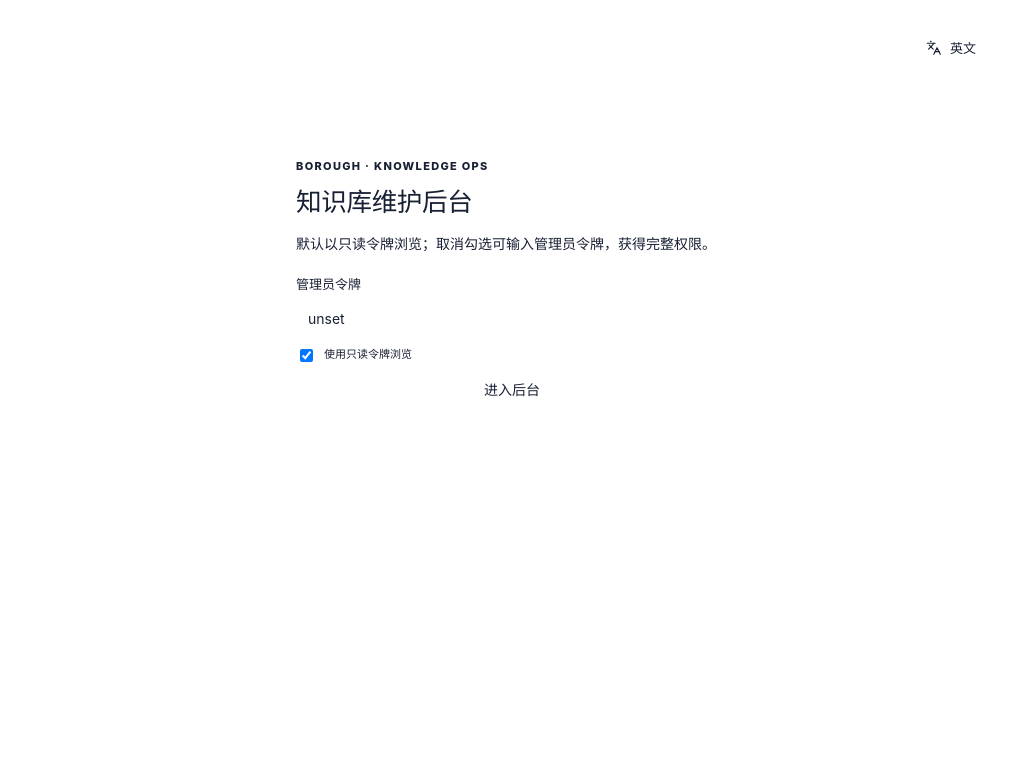
KnowledgeBaseView › 未授权时也能看到并使用统一语言切换器，不必先输入令牌才能切换语言（Finding 4）
Expected: the heading "知识库维护后台" is shown, [296,186,472,217]
Click the button with test id "language-switcher".
click(951, 48)  # box [914,30,988,66]
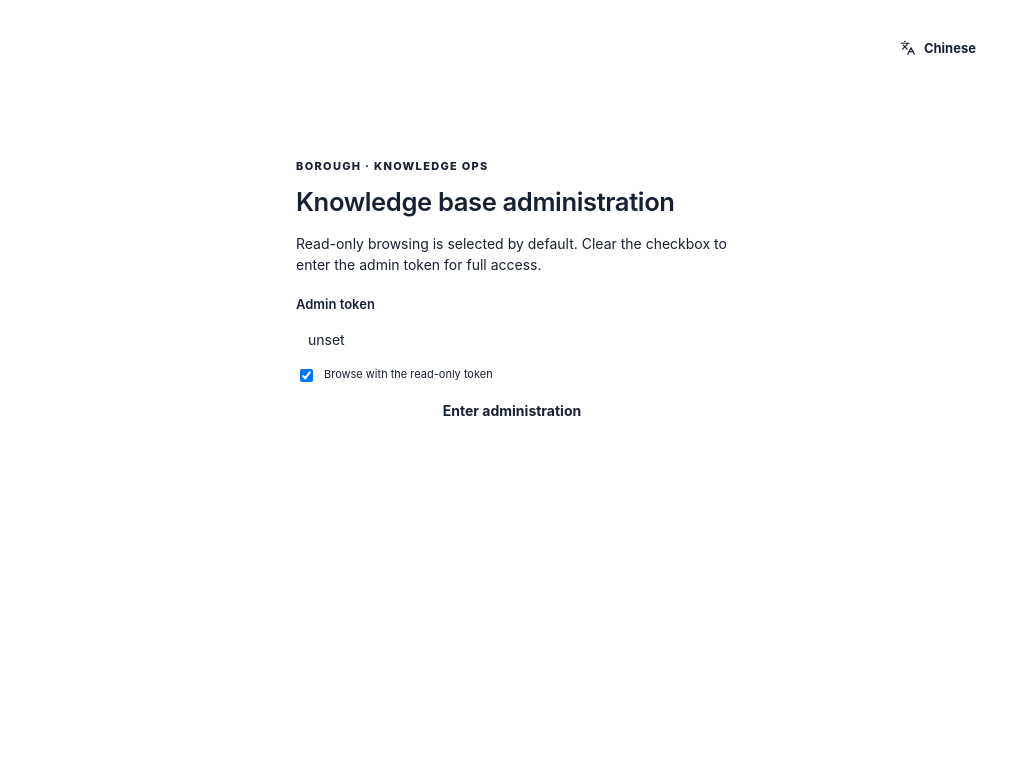
Result: the heading "Knowledge base administration" is shown at [296,183,728,220]
